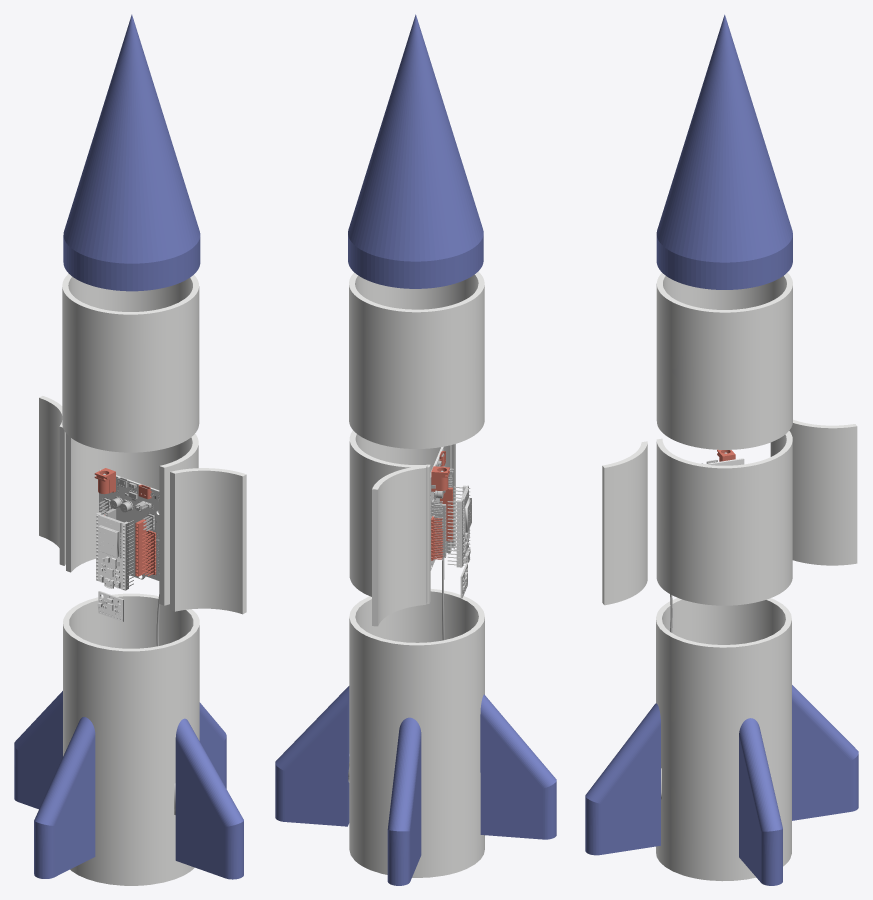
Rendered from Rocket.glb.
The picture shows the model from 3 angles, left to right: view 1: azimuth 30°, elevation 25°; view 2: azimuth 150°, elevation 25°; view 3: azimuth 270°, elevation 25°; orthographic projection.
Visible parts, largest first — view 1: BodyRear, Nose, BodyFront, OpenSideB, BodyMidSliced, Body1.003, Body1, OpenSideA, Body1.002, MeshBody1.004, Body1.004, Body1.001 (+2 smaller); view 2: BodyRear, Nose, BodyFront, Body1, OpenSideA, Body1.001, BodyMidSliced, Body1.002, MeshBody1.004; view 3: BodyRear, Nose, BodyFront, BodyMidSliced, OpenSideA, Body1.003, Body1.002, OpenSideB, Body1.001.
Part boxes in pixels (left/top/right/bottom): BodyRear: left=63, top=593, right=199, bottom=885; Nose: left=63, top=14, right=200, bottom=291; BodyFront: left=62, top=273, right=199, bottom=452; OpenSideB: left=170, top=468, right=246, bottom=614; BodyMidSliced: left=66, top=433, right=198, bottom=605; Body1.003: left=175, top=718, right=243, bottom=879; Body1: left=34, top=717, right=95, bottom=878; OpenSideA: left=39, top=396, right=65, bottom=565; Body1.002: left=14, top=691, right=62, bottom=809; MeshBody1.004: left=96, top=511, right=133, bottom=590; Body1.004: left=99, top=469, right=159, bottom=580; Body1.001: left=199, top=702, right=226, bottom=788; BodyRear: left=349, top=589, right=484, bottom=877; Nose: left=348, top=14, right=483, bottom=288; BodyFront: left=349, top=271, right=484, bottom=448; Body1: left=480, top=694, right=556, bottom=839; OpenSideA: left=372, top=465, right=427, bottom=626; Body1.001: left=275, top=686, right=349, bottom=826; BodyMidSliced: left=349, top=430, right=451, bottom=604; Body1.002: left=387, top=717, right=421, bottom=885; MeshBody1.004: left=447, top=485, right=471, bottom=567; BodyRear: left=656, top=598, right=791, bottom=881; Nose: left=656, top=14, right=792, bottom=289; BodyFront: left=656, top=272, right=792, bottom=449; BodyMidSliced: left=656, top=431, right=792, bottom=605; OpenSideA: left=789, top=419, right=857, bottom=565; Body1.003: left=585, top=703, right=660, bottom=855; Body1.002: left=792, top=685, right=858, bottom=820; OpenSideB: left=602, top=441, right=647, bottom=605; Body1.001: left=739, top=718, right=782, bottom=885.
Bounding box in the file's own units: 0.1783 × 0.6106 × 0.1804.
